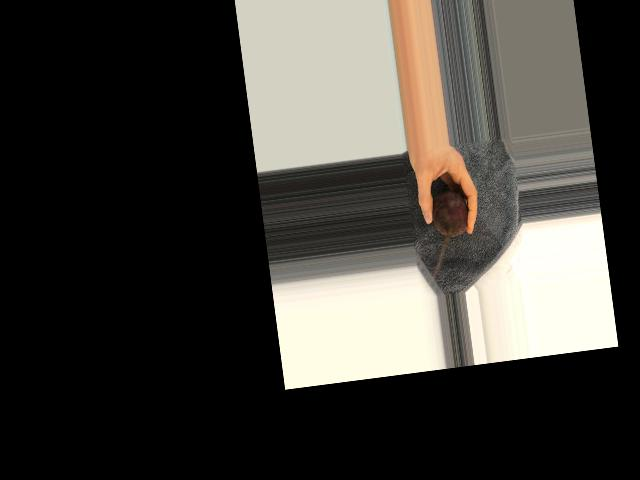beet: (429, 188, 470, 238)
